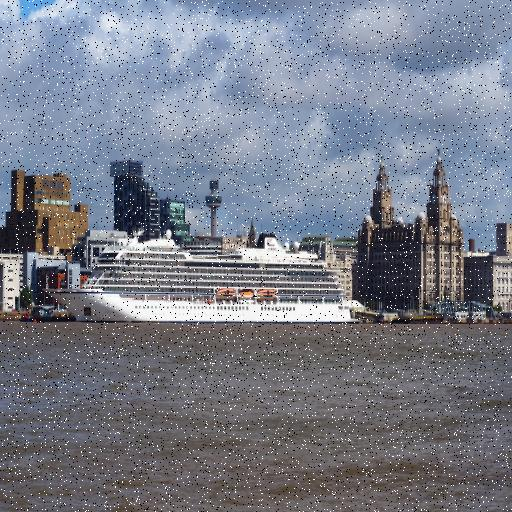cruises: (42, 228, 363, 332)
